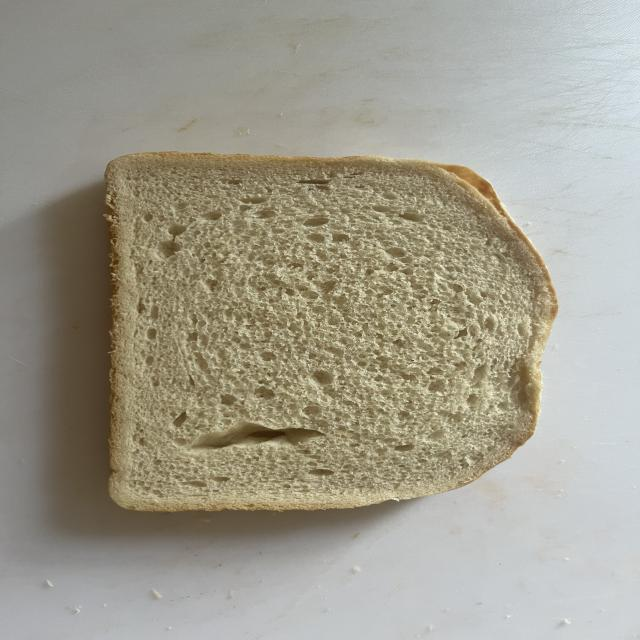sliced_bread: (105, 153, 557, 511)
